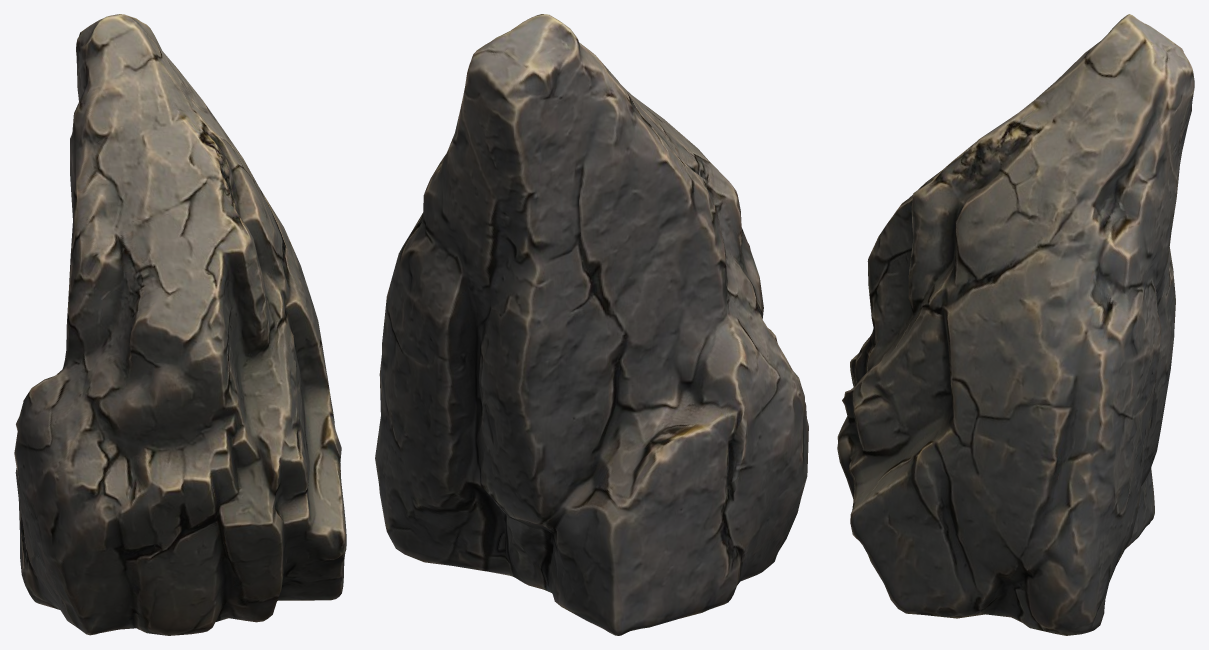
File: crag__kaya3.glb
3 renders of one model, left to right at view 1: azimuth 30°, elevation 25°; view 2: azimuth 150°, elevation 25°; view 3: azimuth 270°, elevation 25°, orthographic. The views are drawn at different scales.
Parts seen in each view (by area): view 1: Mesh0; view 2: Mesh0; view 3: Mesh0.
Boxes of the visible parts, x1,y1,x2,y2 form: Mesh0: [14, 14, 346, 635]; Mesh0: [375, 14, 808, 635]; Mesh0: [837, 14, 1194, 635].
Size of the model in its own units: 1.23 by 1.9 by 1.14.
Materials: 1 (1 with a texture image).
